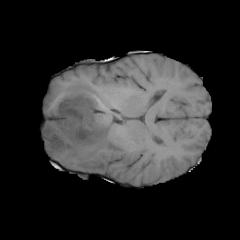glioma: (42, 82, 127, 172)
